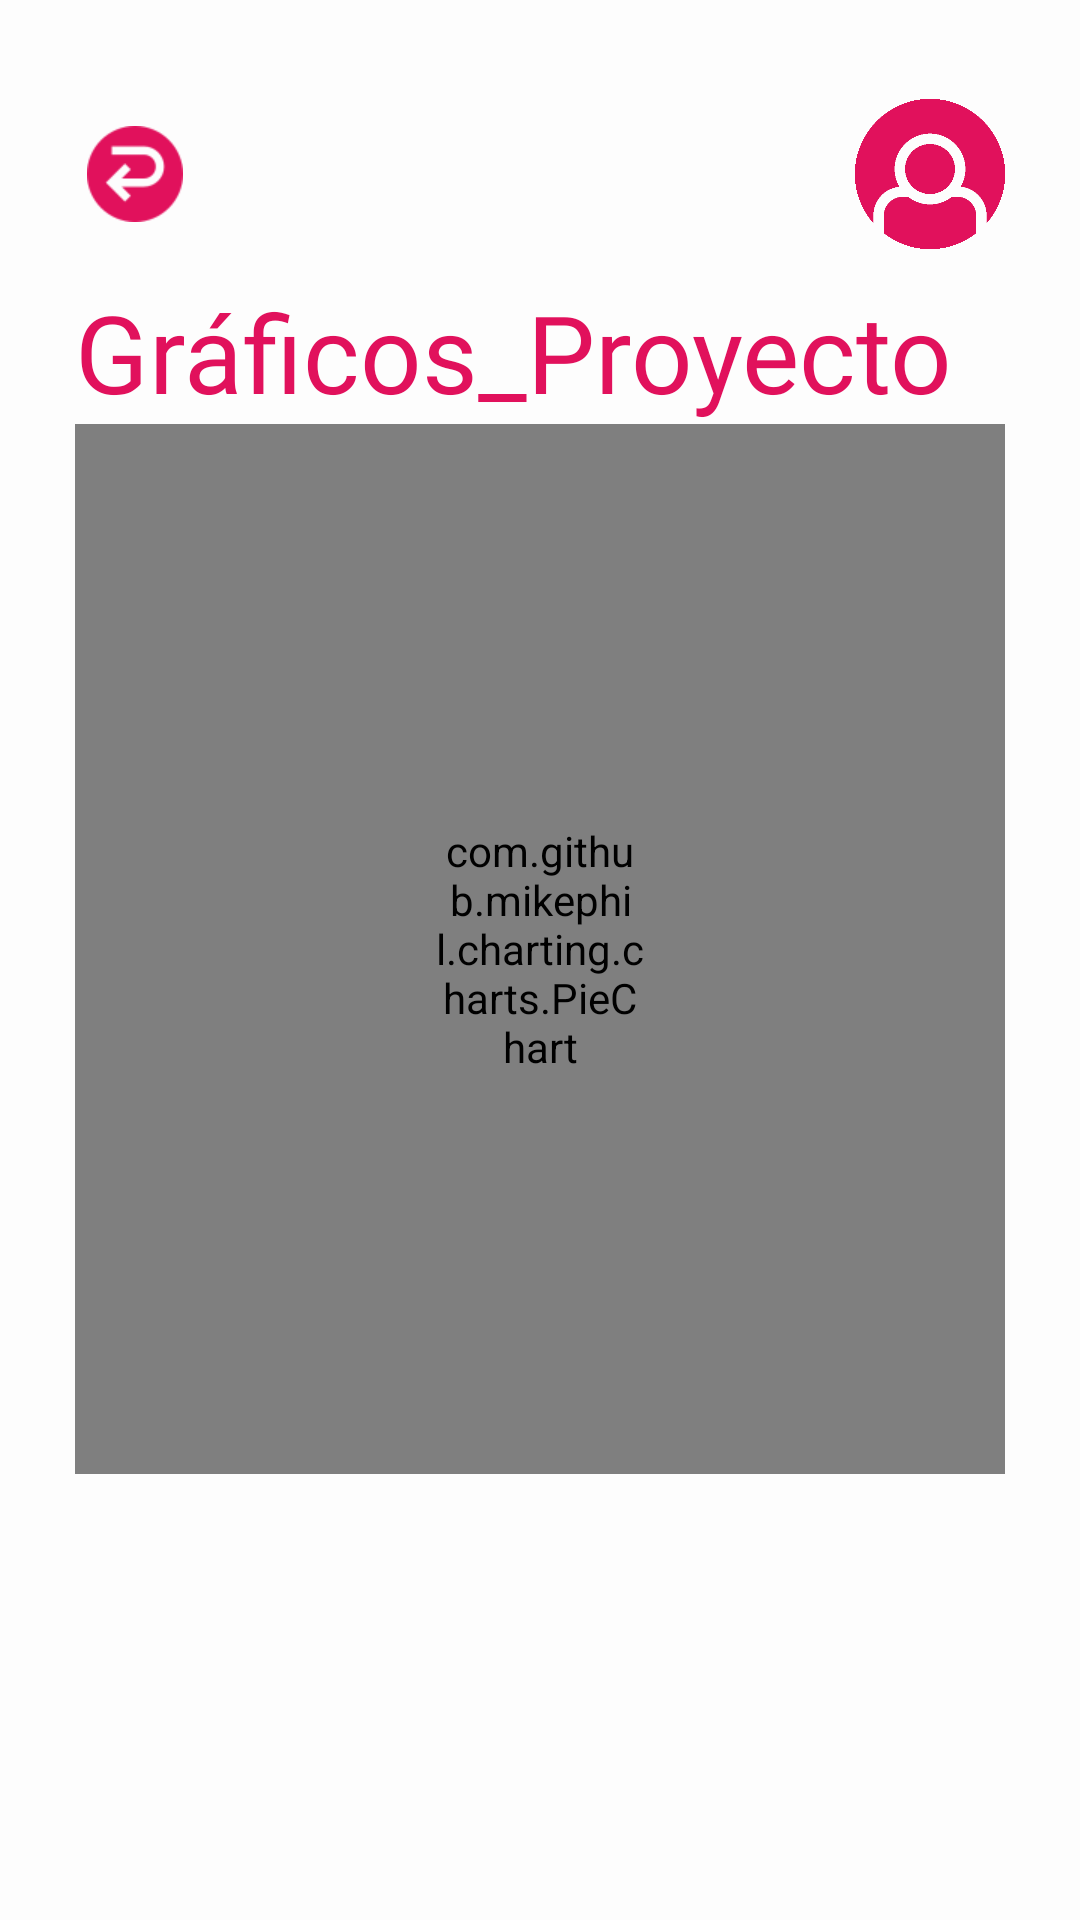

Named icons in this screenshot (1080 × 1920) and their centers, [x,y]:
Volver: [135,174]
